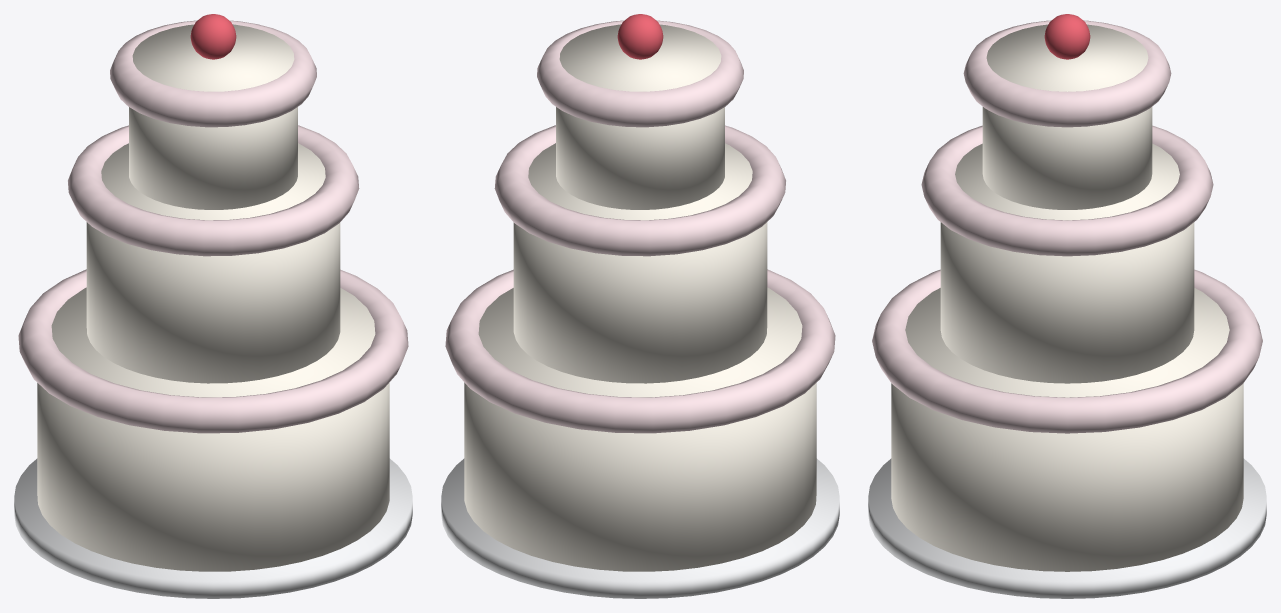
Rendered from WeddingCake.glb.
3 views of the same model, side by side, from view 1: azimuth 30°, elevation 25°; view 2: azimuth 150°, elevation 25°; view 3: azimuth 270°, elevation 25° (orthographic).
Visible parts, largest first — view 1: Tier1, Tier2, Tier3, Frost1, Frost2, Plate, Frost3, Cherry; view 2: Tier1, Tier2, Tier3, Frost1, Frost2, Plate, Frost3, Cherry; view 3: Tier1, Tier2, Tier3, Frost1, Frost2, Plate, Frost3, Cherry.
Boxes of the visible parts, left/top/right/bottom form: Tier1: left=37, top=287, right=389, bottom=571; Tier2: left=86, top=143, right=340, bottom=383; Tier3: left=129, top=24, right=297, bottom=209; Frost1: left=18, top=269, right=408, bottom=433; Frost2: left=68, top=125, right=359, bottom=256; Plate: left=14, top=458, right=412, bottom=598; Frost3: left=110, top=20, right=316, bottom=127; Cherry: left=190, top=14, right=236, bottom=59; Tier1: left=464, top=287, right=816, bottom=571; Tier2: left=513, top=143, right=767, bottom=383; Tier3: left=556, top=24, right=724, bottom=209; Frost1: left=445, top=269, right=835, bottom=433; Frost2: left=494, top=125, right=785, bottom=256; Plate: left=441, top=458, right=839, bottom=598; Frost3: left=537, top=20, right=743, bottom=127; Cherry: left=617, top=14, right=663, bottom=59; Tier1: left=891, top=288, right=1243, bottom=571; Tier2: left=940, top=143, right=1194, bottom=383; Tier3: left=982, top=24, right=1152, bottom=209; Frost1: left=872, top=269, right=1262, bottom=433; Frost2: left=921, top=125, right=1213, bottom=256; Plate: left=868, top=458, right=1266, bottom=598; Frost3: left=963, top=20, right=1171, bottom=127; Cherry: left=1044, top=14, right=1090, bottom=59.
Bounding box in the file's own units: 1.04 × 1.44 × 1.04.
